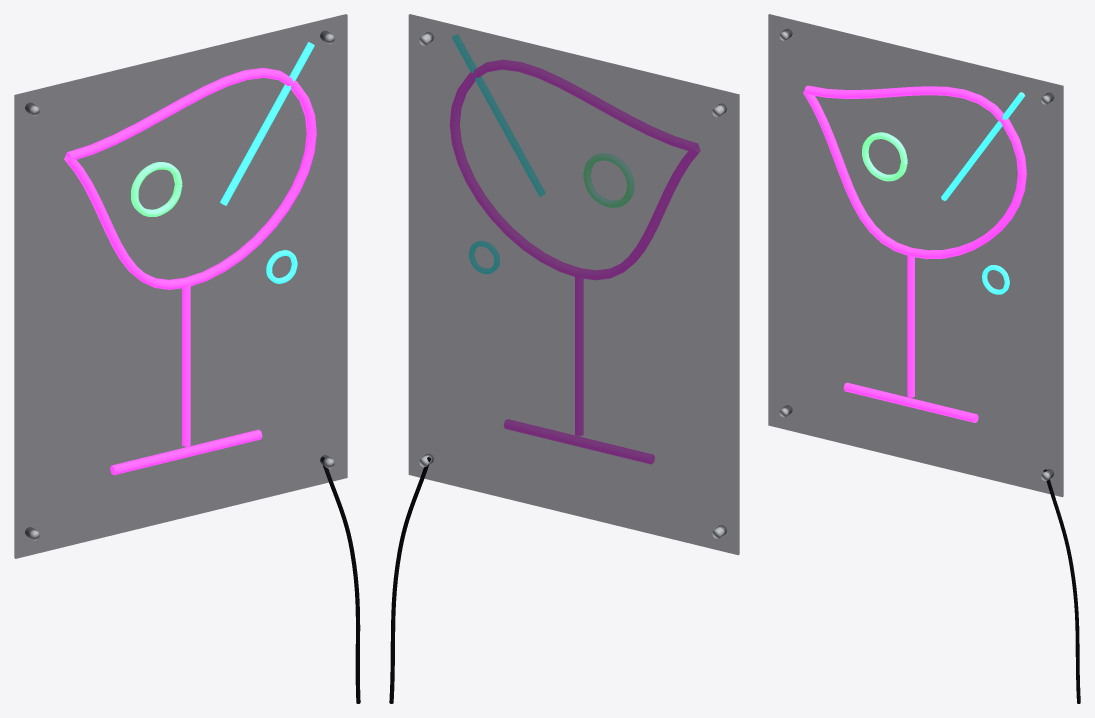
File: klub_neon_drink.glb
The picture shows the model from 3 angles, left to right: view 1: azimuth 30°, elevation 25°; view 2: azimuth 150°, elevation 25°; view 3: azimuth 330°, elevation 25°; orthographic projection. The views are drawn at different scales.
Visible parts, largest first — view 1: Plyta, SwiatloRoz, SwiatloCyan; view 2: Plyta, SwiatloRoz, SwiatloCyan; view 3: Plyta, SwiatloRoz, SwiatloCyan.
Boxes of the visible parts, x1,y1,x2,y2 form: Plyta: (14, 14, 360, 703); SwiatloRoz: (64, 67, 316, 475); SwiatloCyan: (131, 42, 314, 283); Plyta: (389, 14, 739, 703); SwiatloRoz: (450, 60, 700, 464); SwiatloCyan: (452, 34, 634, 273); Plyta: (768, 14, 1080, 703); SwiatloRoz: (803, 85, 1026, 422); SwiatloCyan: (862, 92, 1024, 294).
Bounding box in the file's own units: 0.9443 × 1.8 × 0.057.
